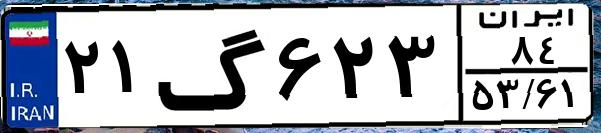1: (110, 28, 156, 98), (560, 70, 590, 125)
2: (330, 28, 385, 110), (57, 26, 110, 100)
3: (385, 28, 445, 110), (495, 70, 520, 125)
4: (537, 27, 568, 80)
5: (470, 70, 495, 125)
6: (270, 28, 330, 110), (535, 70, 560, 125)
8: (508, 27, 537, 80)
گ: (156, 12, 270, 120)
